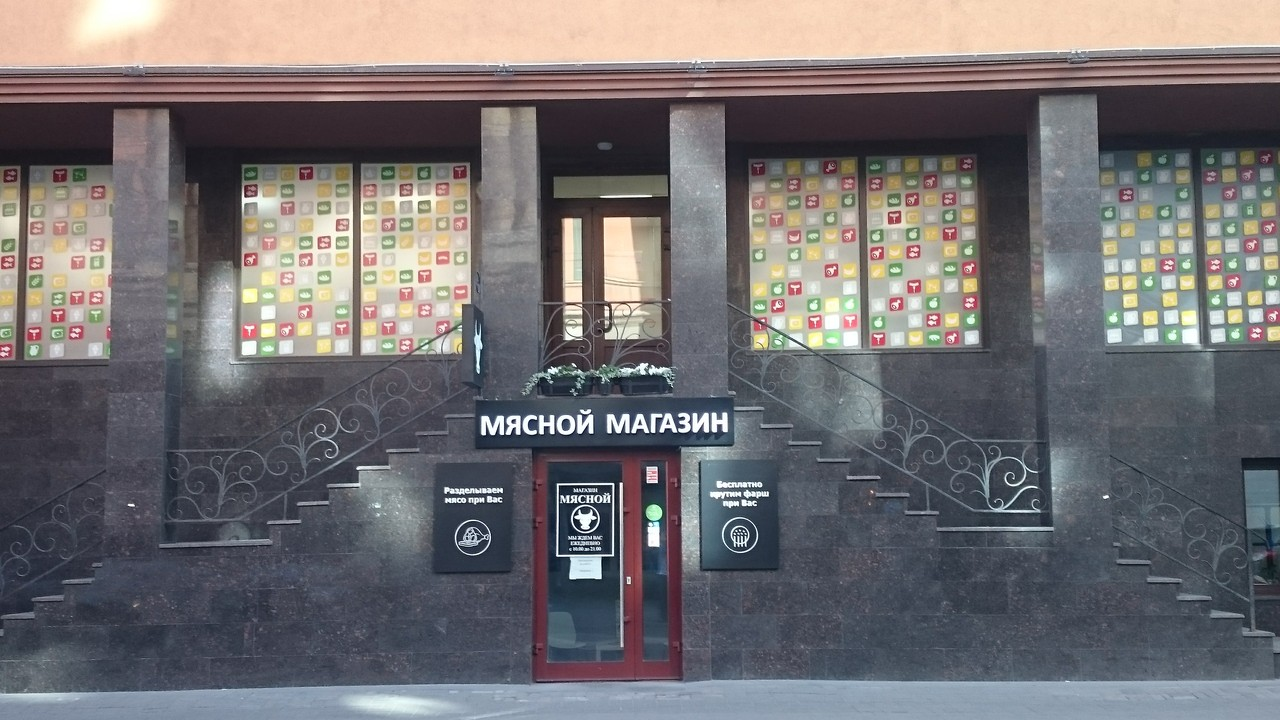cantilever: (461, 306, 492, 383)
door: (534, 457, 633, 684)
signboard: (474, 396, 733, 452), (702, 459, 779, 577), (432, 462, 513, 573)
window: (752, 148, 979, 347), (239, 162, 465, 361)
